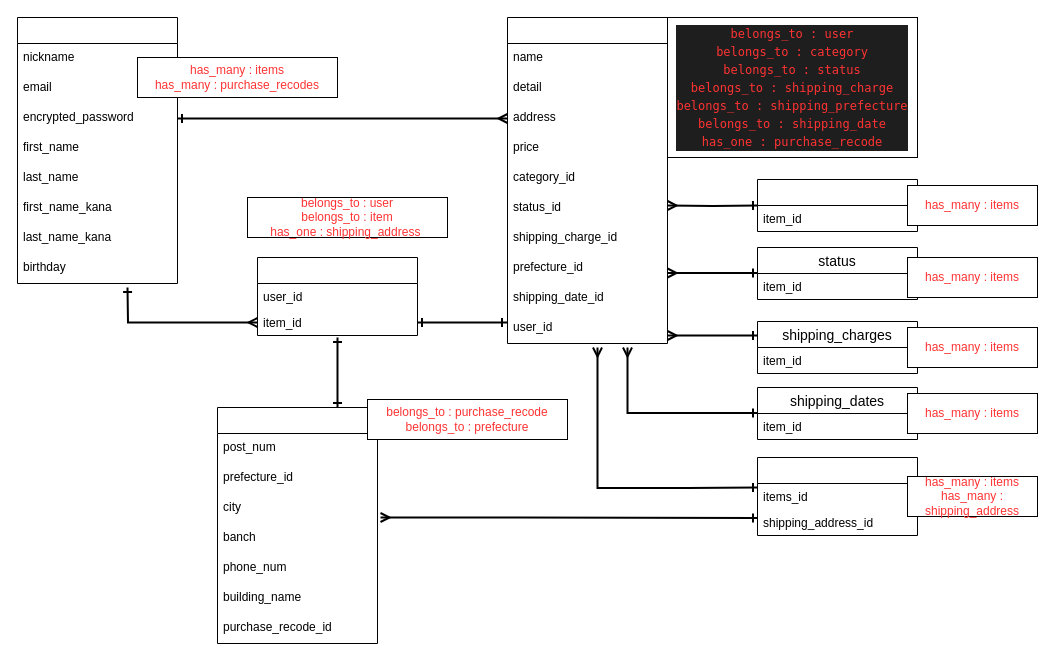
The diagram is 1055 pixels wide and 664 high, and some of its shapes have lost their labels. The box of each missing label's shape, as (x1, y1, x2, y2) in pixels:
categories: (756, 178, 918, 232)
items: (506, 16, 668, 344)
prefecture: (756, 456, 918, 536)
purchase_recodes: (256, 256, 418, 336)
shipping_address: (216, 406, 378, 644)
users: (16, 16, 178, 284)
